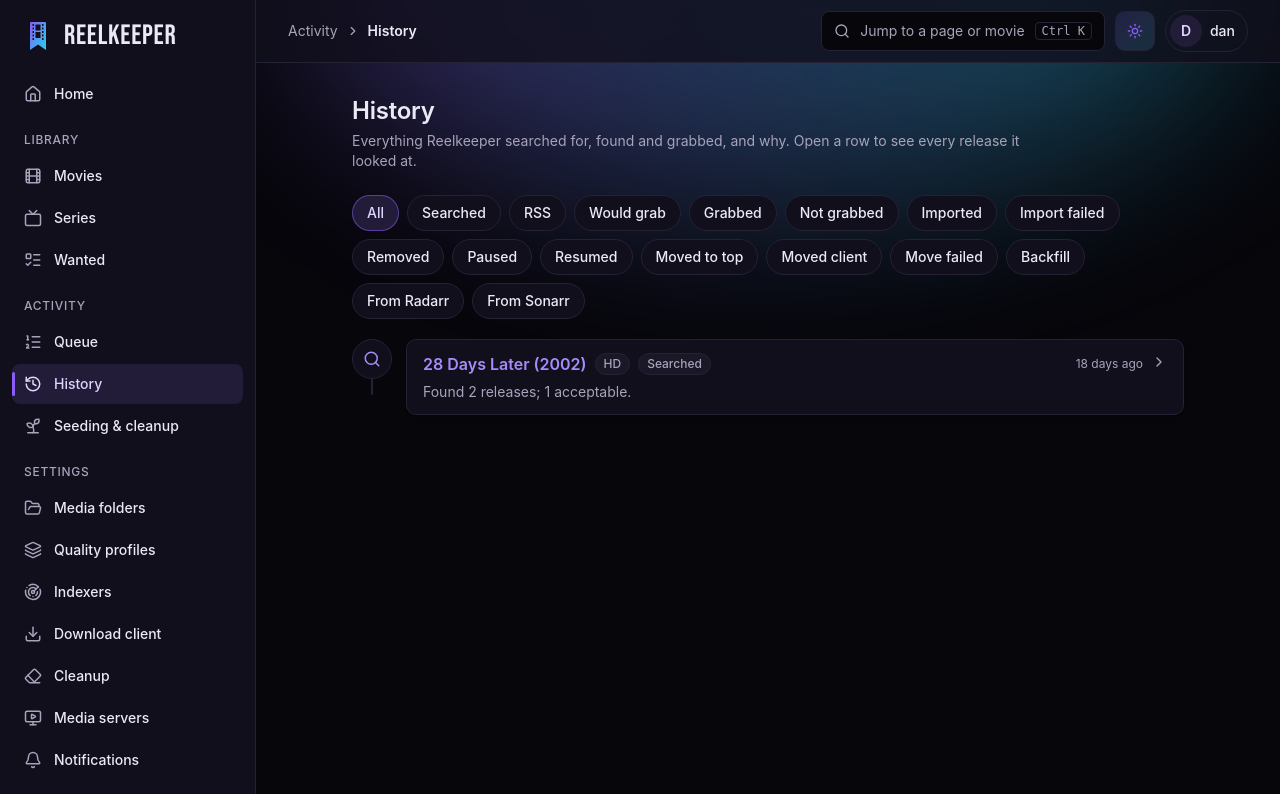
Scenario: History page › has chips for the download events, and shows their message without a release table
Expected: the text "Found 2 releases; 1 acceptable." is shown, top-left (423, 383), bottom-right (631, 400)
Expected: the button "Import failed" is shown, top-left (1005, 195), bottom-right (1120, 231)
Click the button "Imported" at (952, 213), box top-left (906, 195), bottom-right (997, 231)
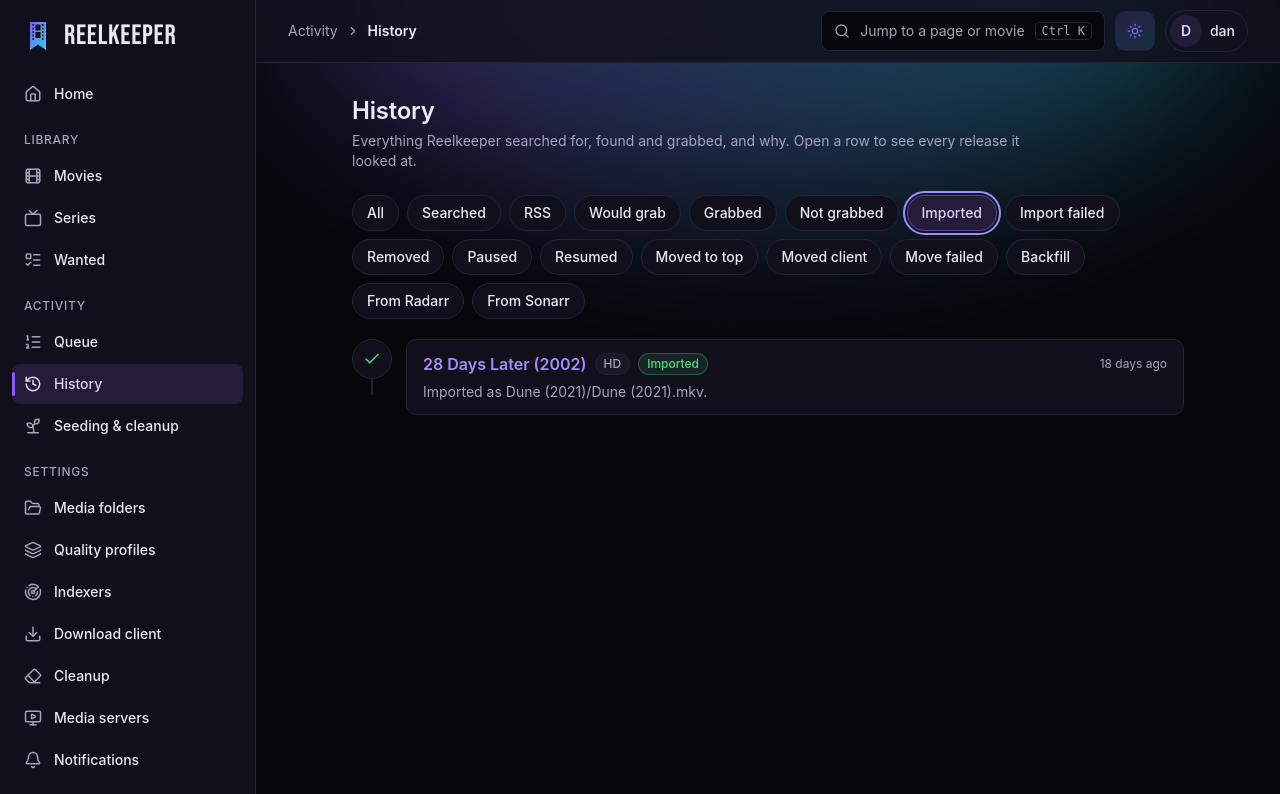
Now the text "Imported as Dune (2021)/Dune (2021).mkv." is shown, box top-left (423, 383), bottom-right (707, 400)
